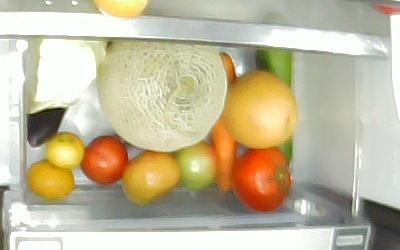cabbage: (27, 38, 107, 113)
carrot: (211, 51, 235, 193)
eggplant: (26, 107, 69, 150)
melon: (98, 41, 227, 152)
pear: (221, 71, 299, 150)
prune: (120, 151, 180, 206), (82, 136, 129, 184)
tangerine: (27, 160, 74, 203), (45, 131, 84, 168)
tomato: (232, 148, 290, 213), (172, 143, 220, 190)
zucchini: (255, 47, 293, 167)
